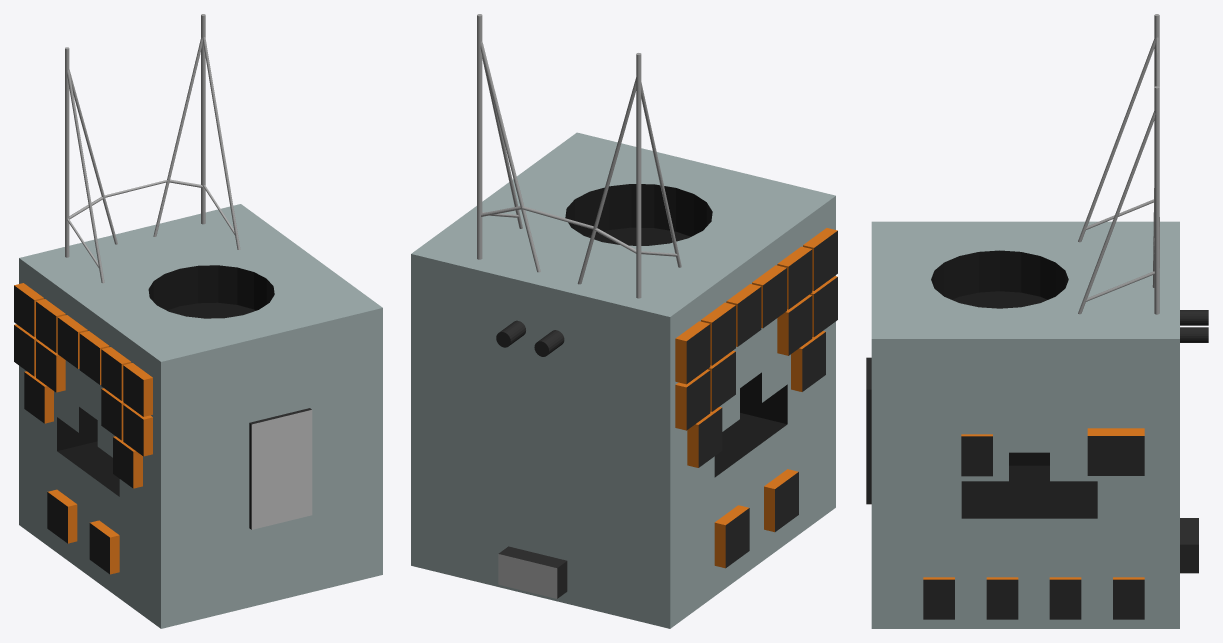
The model's file is bus_and_structure.gltf.
3 renders of one model, left to right at view 1: azimuth 30°, elevation 25°; view 2: azimuth 150°, elevation 25°; view 3: azimuth 270°, elevation 25°, orthographic. The views are drawn at different scales.
Visible parts, largest first — view 1: Psyche_Spacecraft_-_Bus, Cylinder.002, Cylinder.006, Cylinder.001, Cylinder.005, Cylinder.007, Cylinder.008; view 2: Psyche_Spacecraft_-_Bus, Cylinder.002, Cylinder.006, Cylinder.007, Cylinder.008, Cylinder.005, Cylinder.001; view 3: Psyche_Spacecraft_-_Bus, Cylinder.006, Cylinder.005, Cylinder.001.
Boxes of the visible parts, box(x1,y1,x2,y2) form: Psyche_Spacecraft_-_Bus: box(14, 204, 382, 628); Cylinder.002: box(65, 47, 69, 257); Cylinder.006: box(201, 14, 205, 224); Cylinder.001: box(203, 37, 240, 249); Cylinder.005: box(67, 70, 104, 283); Cylinder.007: box(153, 37, 202, 236); Cylinder.008: box(69, 69, 117, 244); Psyche_Spacecraft_-_Bus: box(411, 132, 837, 628); Cylinder.002: box(636, 53, 641, 298); Cylinder.006: box(477, 14, 482, 259); Cylinder.007: box(480, 41, 540, 272); Cylinder.008: box(577, 77, 636, 284); Cylinder.005: box(641, 82, 681, 267); Cylinder.001: box(482, 57, 522, 228); Psyche_Spacecraft_-_Bus: box(866, 221, 1208, 628); Cylinder.006: box(1154, 86, 1159, 314); Cylinder.005: box(1078, 38, 1155, 242); Cylinder.001: box(1078, 110, 1155, 314).
Bounding box in the file's own units: 0.487 × 0.901 × 0.541.
